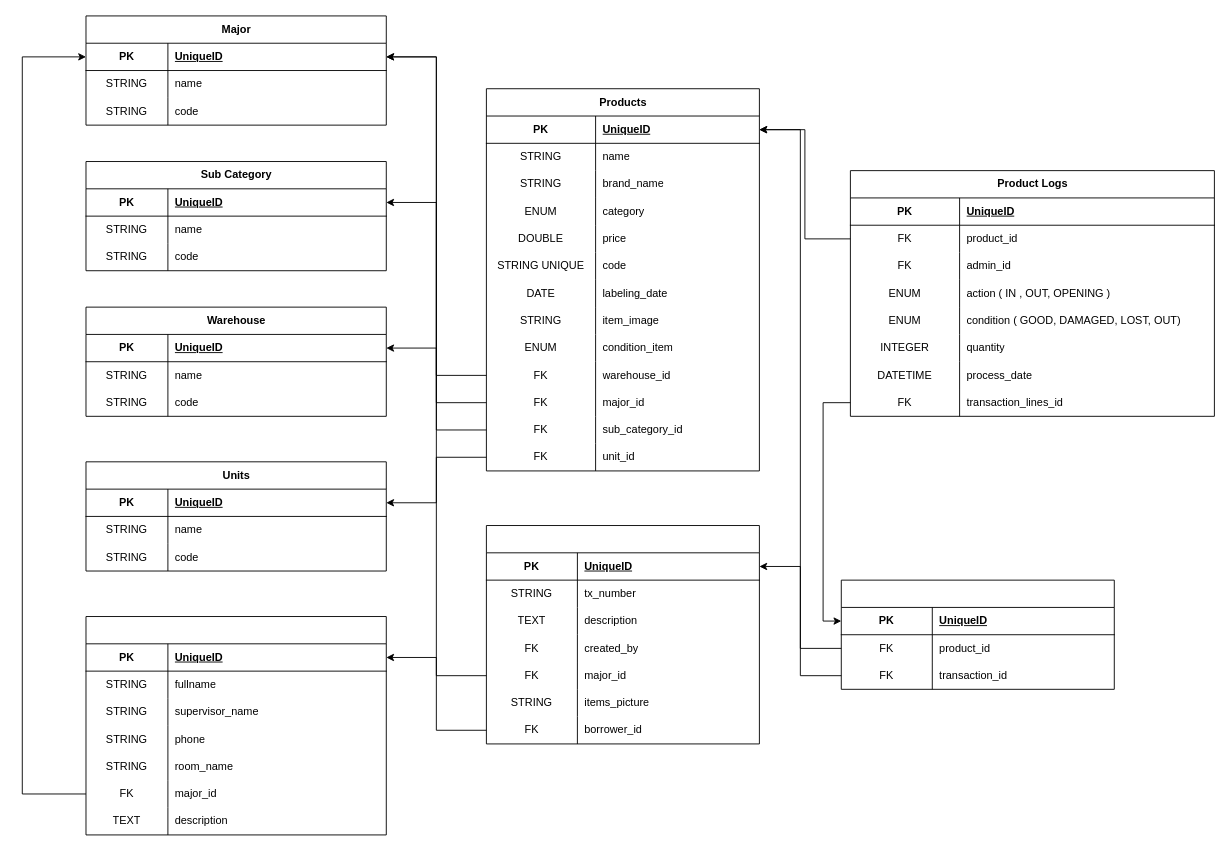
This 1230x851 diagram has some shape labels left out. The shapes that lost their labels are listed below. From the top down, each one's box as (x1, y1, x2, y2) in pixels, then its label:
(485, 525, 759, 744): Transaction
(840, 579, 1114, 689): Transaction Lines
(85, 616, 386, 835): Borrower
